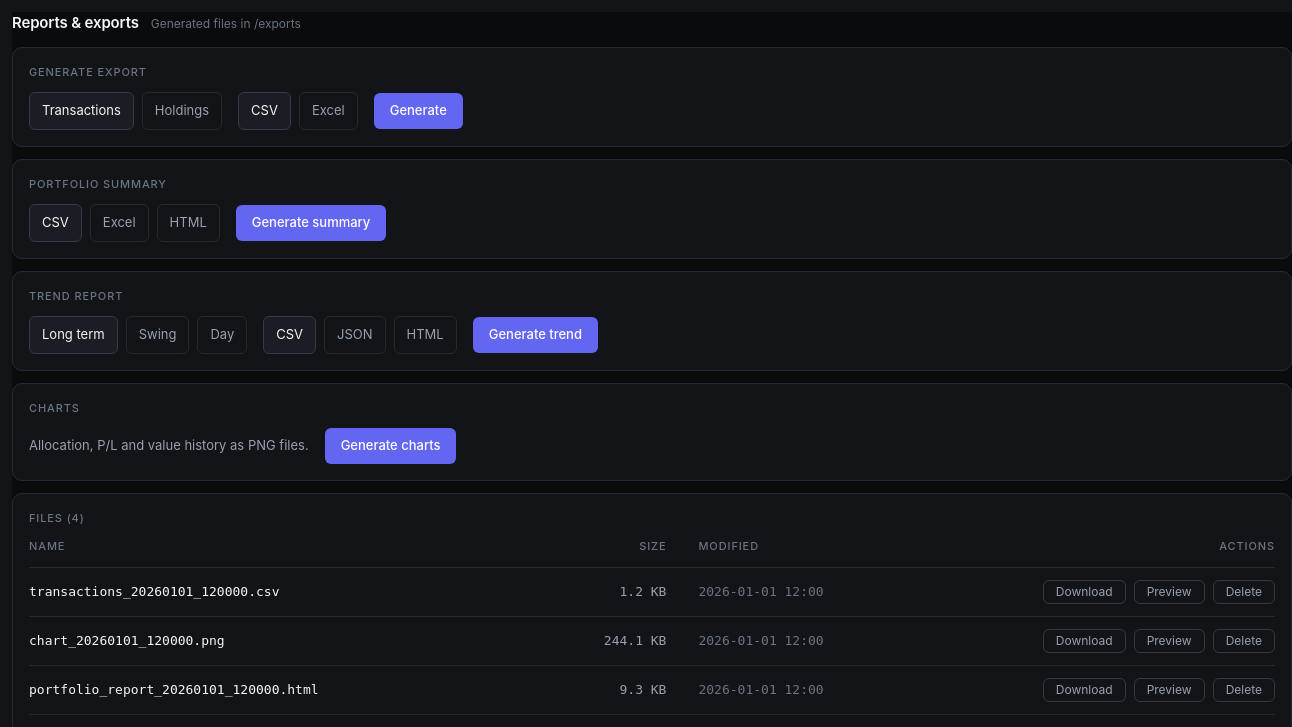
Scenario: Reports trend export › posts the picked timeframe and format and confirms the file
expect the text "transactions_20260101_120000.csv" is shown: met, box top-left (29, 567), bottom-right (544, 616)
expect the text "Trend report" is shown: met, box top-left (29, 288), bottom-right (123, 302)
Click the button "Swing" at (158, 335), box top-left (126, 316), bottom-right (190, 354)
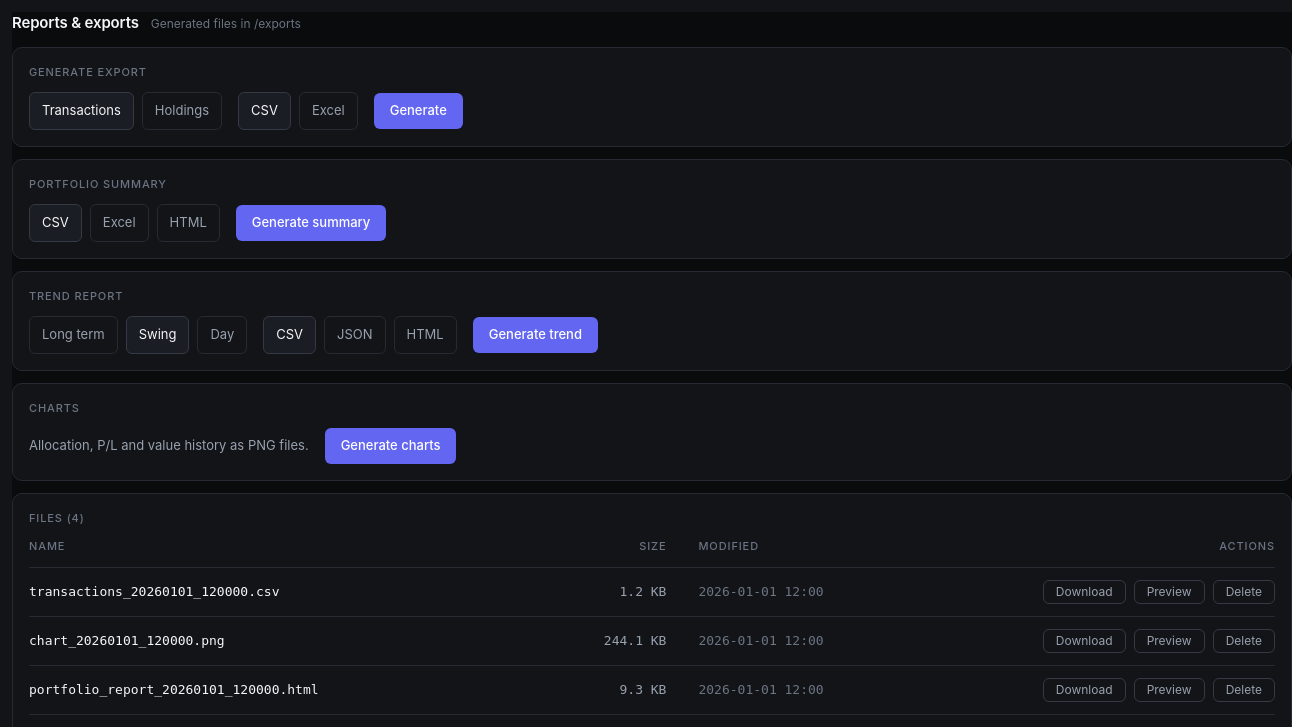
Click the button "JSON" at (355, 335), box top-left (324, 316), bottom-right (386, 354)
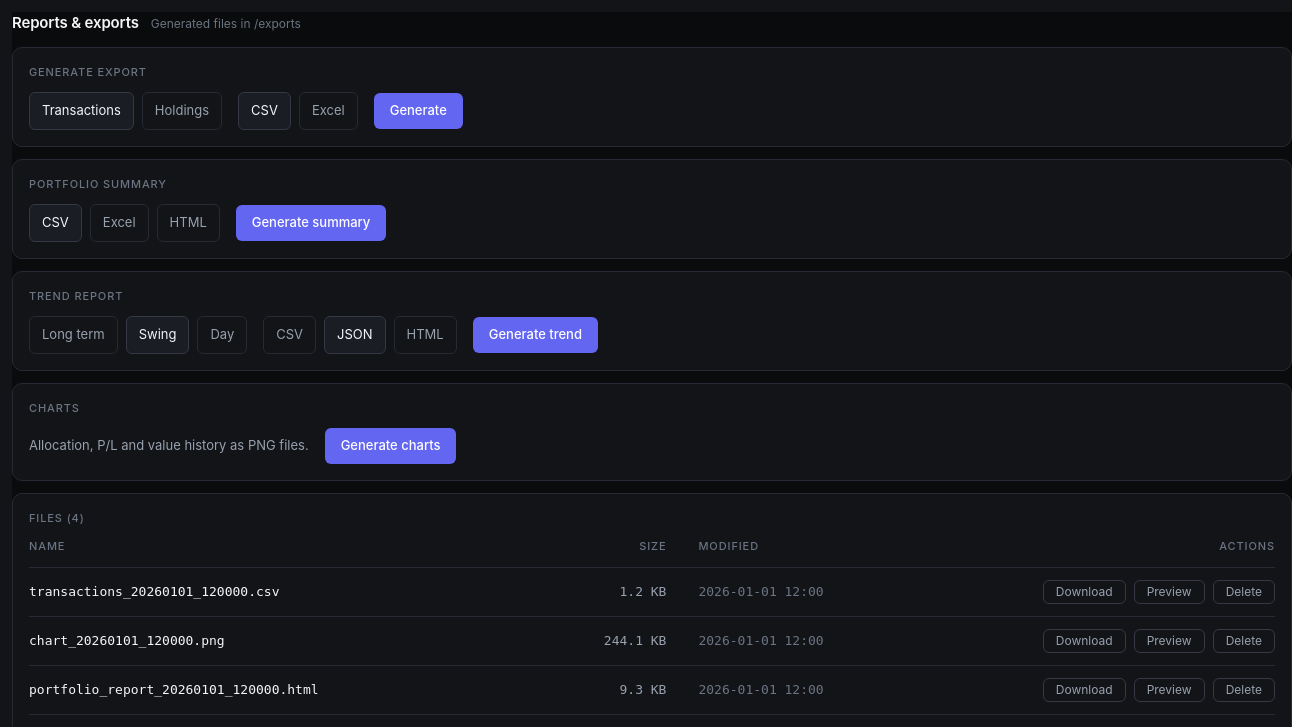
Click the button "Generate trend" at (535, 335), box top-left (473, 317), bottom-right (598, 352)
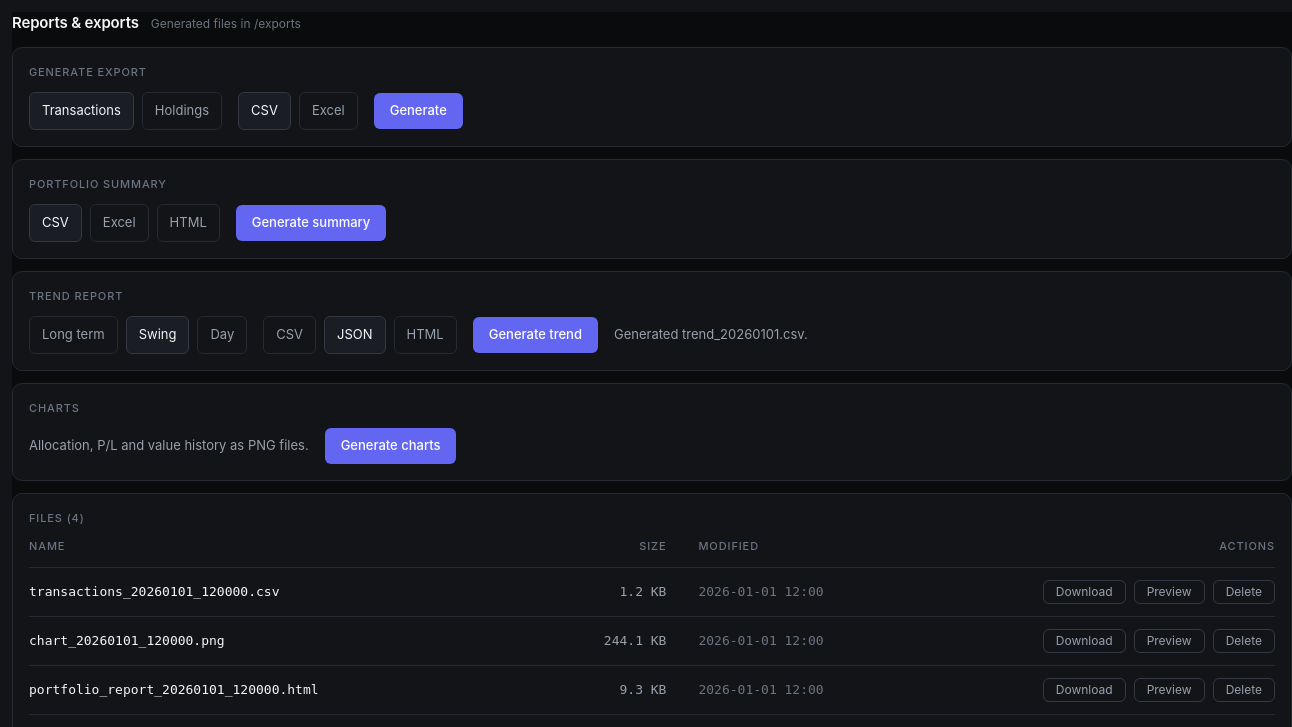
expect the text "Generated trend_20260101.csv." is shown: met, box top-left (614, 325), bottom-right (808, 344)
